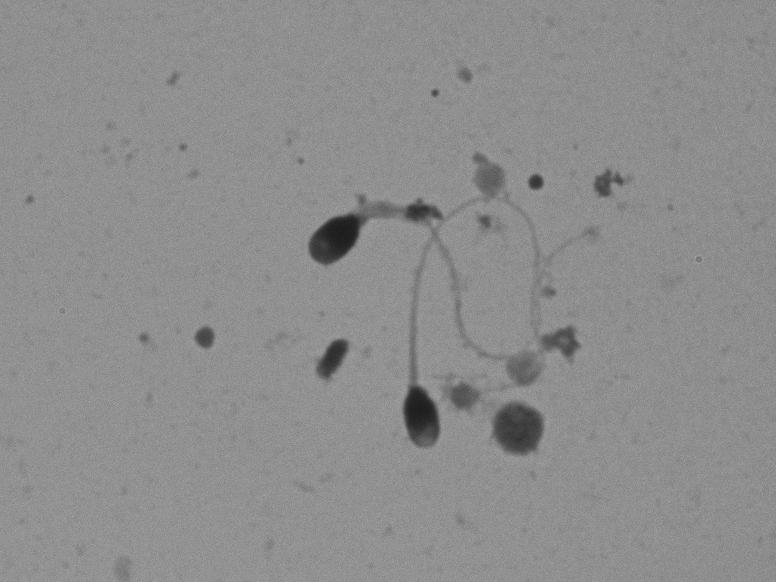Abnormal: (286, 187, 561, 367)
Normal: (387, 177, 614, 458)
